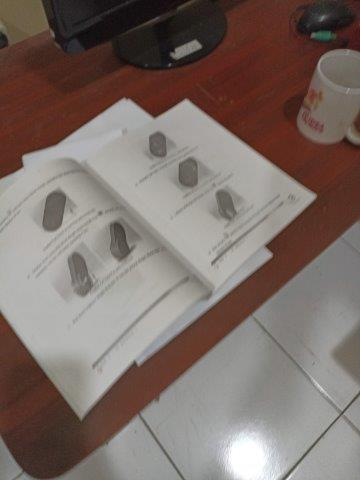kertas: (1, 97, 317, 421)
